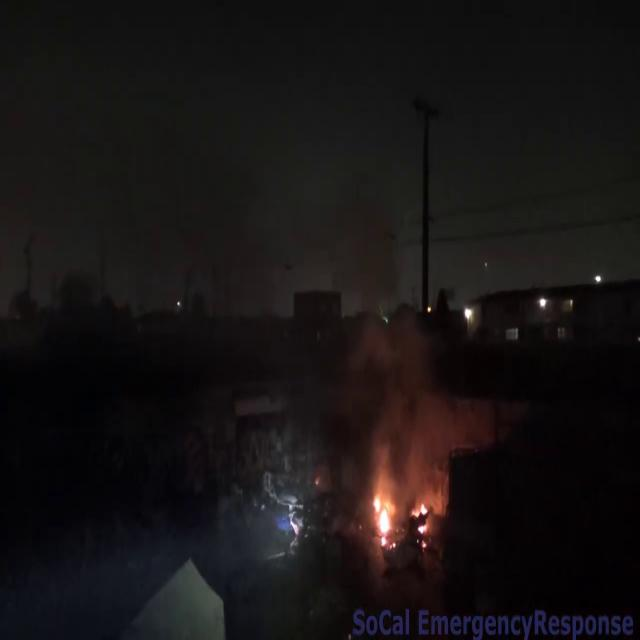Fire: (368, 478, 400, 544)
Smoke: (344, 302, 480, 498)
